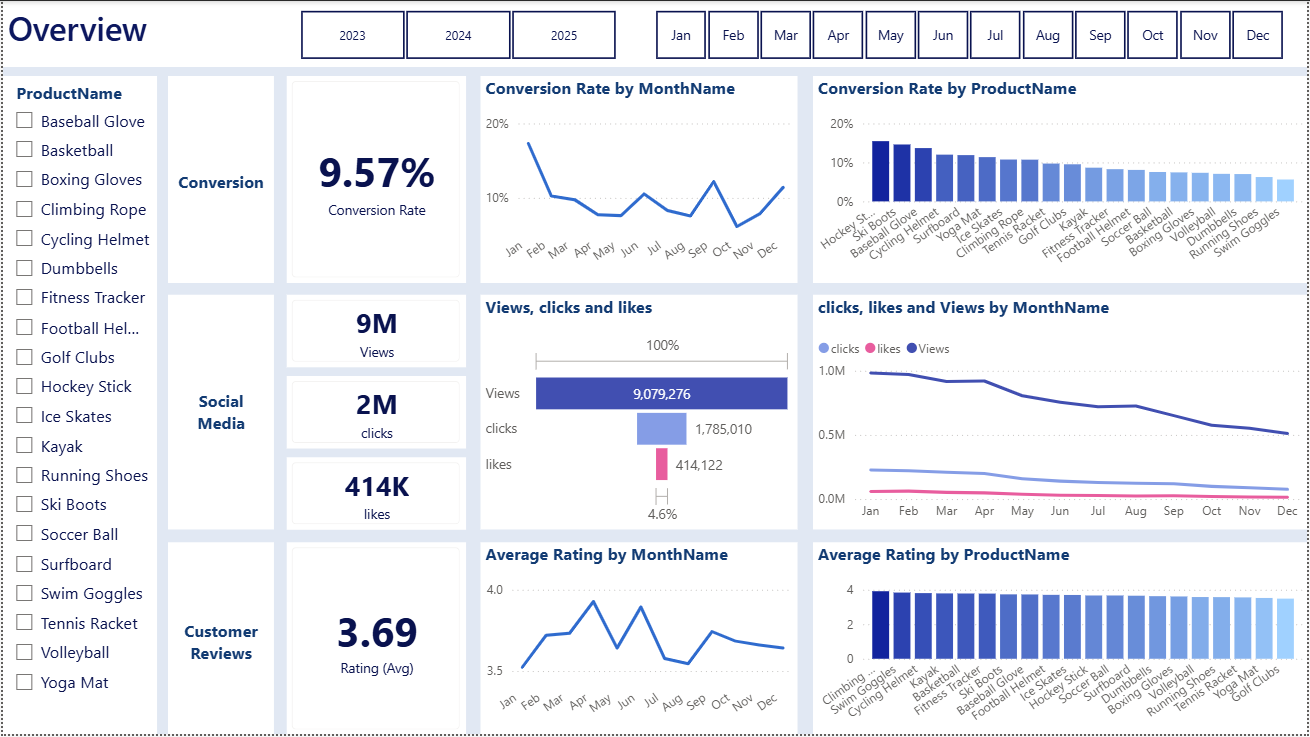

The page's visual inventory and layout, read from the dashboard file:
{"tool":"powerbi","page":{"name":"Overview","canvas":[1280,720],"ordinal":0},"visuals":[{"type":"slicer","fields":{"Values":["dim_products.ProductName"]},"box":[0,74.1,150.9,646.3],"z":0},{"type":"textbox","box":[0,0,1280.3,64.5],"z":1},{"type":"textbox","box":[161.9,74.1,104.3,203.1],"z":2},{"type":"textbox","box":[161.9,531,104.3,189.4],"z":3},{"type":"textbox","box":[161.9,288.2,104.3,230.5],"z":4},{"type":"cardVisual","fields":{"Data":["_Calculations.Conversion Rate"]},"box":[278.6,74.1,175.6,203.1],"z":5},{"type":"cardVisual","fields":{"Data":["_Calculations.clicks"]},"box":[278.6,367.8,175.6,71.4],"z":7},{"type":"cardVisual","fields":{"Data":["_Calculations.likes"]},"box":[278.6,447.3,175.6,71.4],"z":8},{"type":"cardVisual","fields":{"Data":["_Calculations.Rating (Avg)"]},"box":[278.6,531,175.6,189.4],"z":9},{"type":"cardVisual","fields":{"Data":["_Calculations.Views"]},"box":[278.6,288.2,175.6,71.4],"z":10},{"type":"slicer","fields":{"Values":["Calendar.Year"]},"box":[266.2,2.7,359.5,61.7],"z":12},{"type":"slicer","fields":{"Values":["Calendar.MonthNameShort"]},"box":[614.8,2.7,665.5,61.7],"z":13},{"type":"lineChart","title":"Conversion Rate by MonthName","fields":{"Y":["_Calculations.Conversion Rate"],"Category":["Calendar.MonthNameShort"]},"box":[469.3,74.1,311.5,203.1],"z":14},{"type":"clusteredColumnChart","fields":{"Category":["dim_products.ProductName"],"Y":["_Calculations.Conversion Rate"]},"box":[794.5,74.1,485.8,203.1],"z":15},{"type":"lineChart","title":"clicks, likes and Views by MonthName","fields":{"Category":["Calendar.MonthNameShort"],"Y":["_Calculations.clicks","_Calculations.likes","_Calculations.Views"]},"box":[794.5,288.2,485.8,230.5],"z":16},{"type":"funnel","fields":{"Y":["_Calculations.Views","_Calculations.clicks","_Calculations.likes"]},"box":[469.3,288.2,311.5,230.5],"z":17},{"type":"lineChart","title":"Average Rating by MonthName","fields":{"Category":["Calendar.MonthNameShort"],"Y":["_Calculations.Rating (Avg)"]},"box":[469.3,531,311.5,189.4],"z":18},{"type":"clusteredColumnChart","title":"Average Rating by ProductName","fields":{"Category":["dim_products.ProductName"],"Y":["_Calculations.Rating (Avg)"]},"box":[794.5,531,485.8,189.4],"z":19}]}

Visuals, with their boxes in screenshot pixels (x1, y1, x2, y2), scaled from the page's 1280x720 canvas onto the 1310x737 screenshot:
slicer - dim_products.ProductName: (0,76,154,736)
textbox: (0,0,1309,66)
textbox: (166,76,272,284)
textbox: (166,544,272,736)
textbox: (166,295,272,531)
cardVisual - _Calculations.Conversion Rate: (285,76,465,284)
cardVisual - _Calculations.clicks: (285,376,465,450)
cardVisual - _Calculations.likes: (285,458,465,531)
cardVisual - _Calculations.Rating (Avg): (285,544,465,736)
cardVisual - _Calculations.Views: (285,295,465,368)
slicer - Calendar.Year: (272,3,640,66)
slicer - Calendar.MonthNameShort: (629,3,1309,66)
"Conversion Rate by MonthName" lineChart: (480,76,799,284)
clusteredColumnChart - dim_products.ProductName x _Calculations.Conversion Rate: (813,76,1309,284)
"clicks, likes and Views by MonthName" lineChart: (813,295,1309,531)
funnel - _Calculations.Views x _Calculations.clicks: (480,295,799,531)
"Average Rating by MonthName" lineChart: (480,544,799,736)
"Average Rating by ProductName" clusteredColumnChart: (813,544,1309,736)
